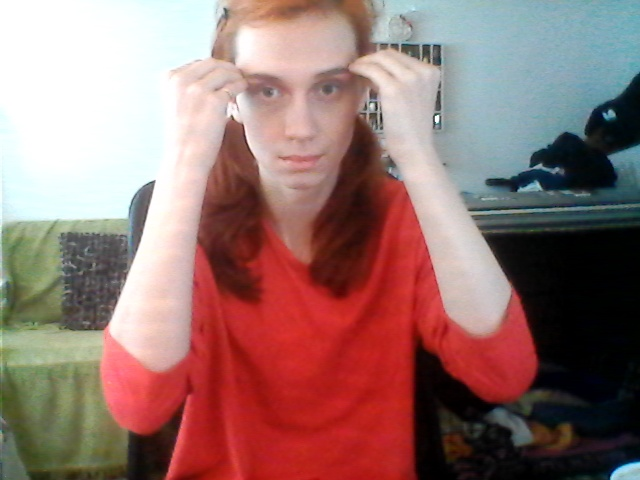ucit: (159, 48, 470, 120)
